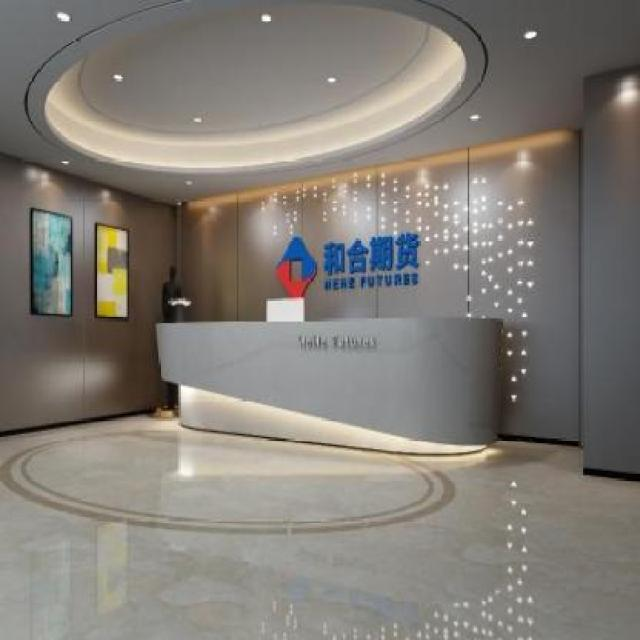frontdesk: (146, 309, 511, 468)
